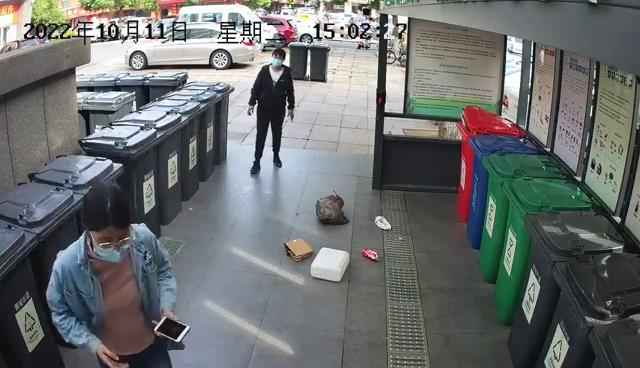lvzhipin: (361, 246, 381, 264), (374, 214, 392, 231)
paomozhipin: (310, 246, 351, 284)
person: (247, 46, 296, 175)
suliaozhipin: (314, 193, 351, 226)
worker: (45, 180, 191, 368)
zhizhipin: (283, 238, 313, 263)
